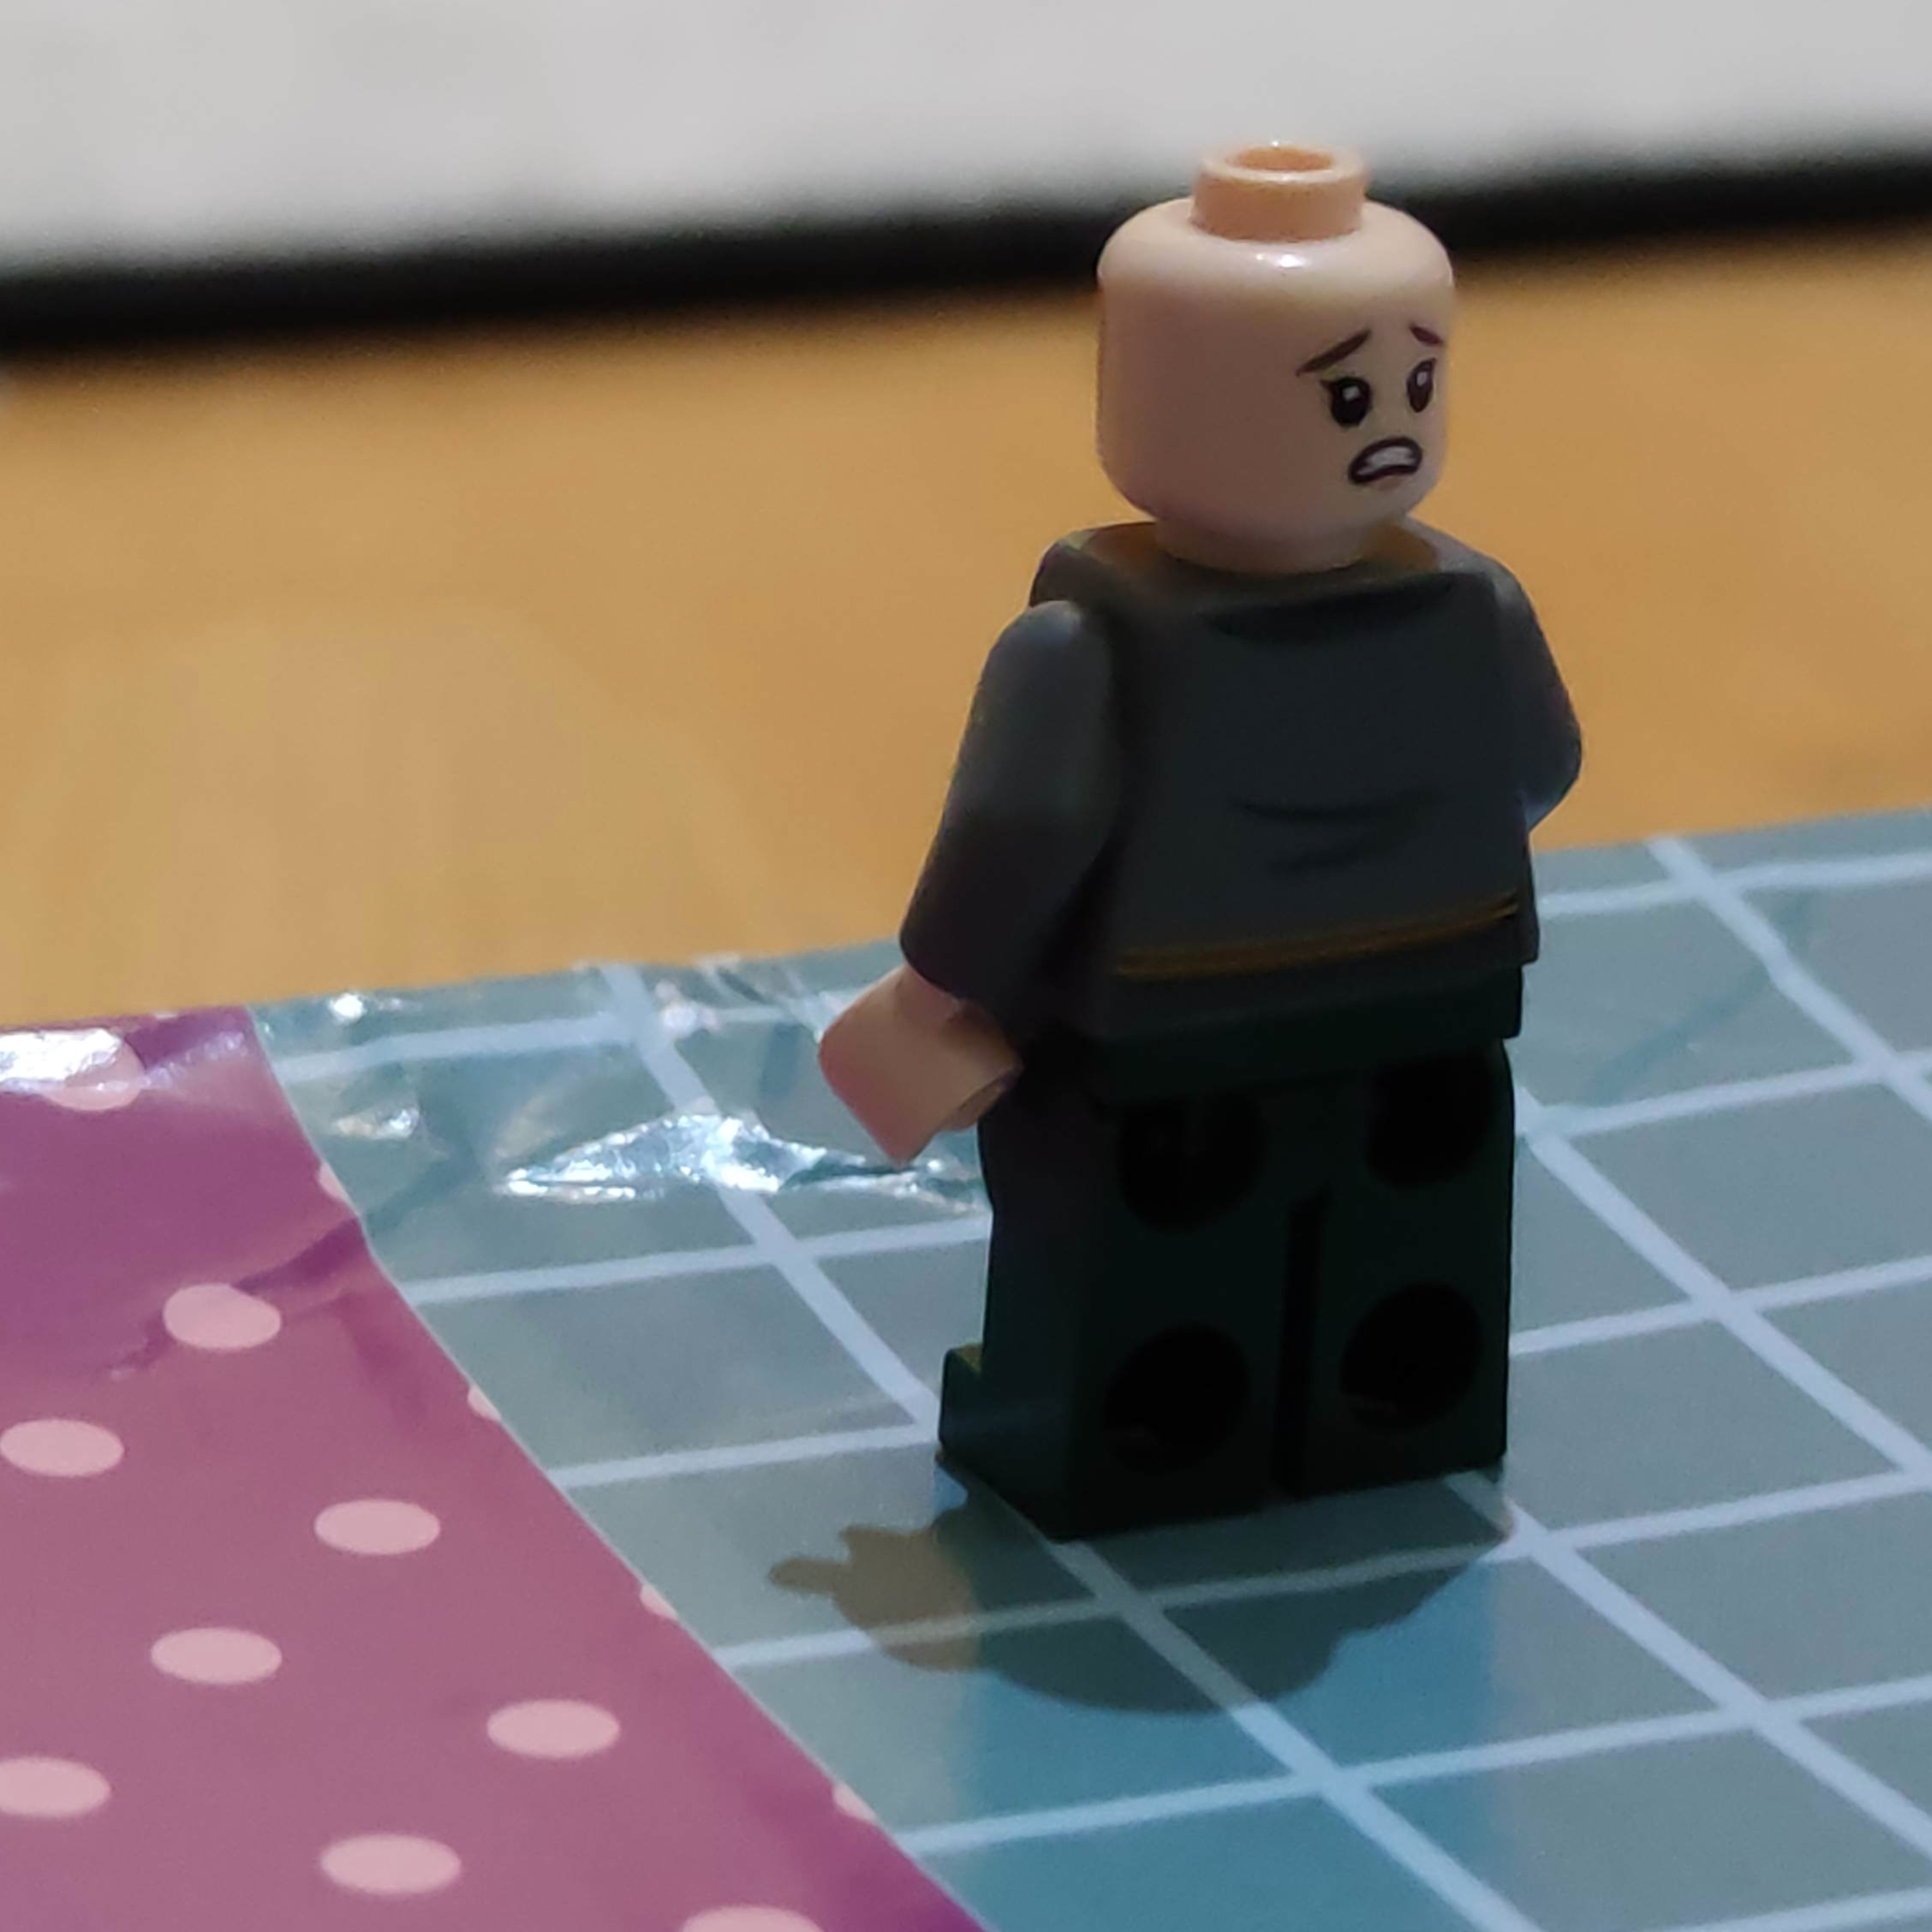lego: (821, 147, 1585, 1543)
